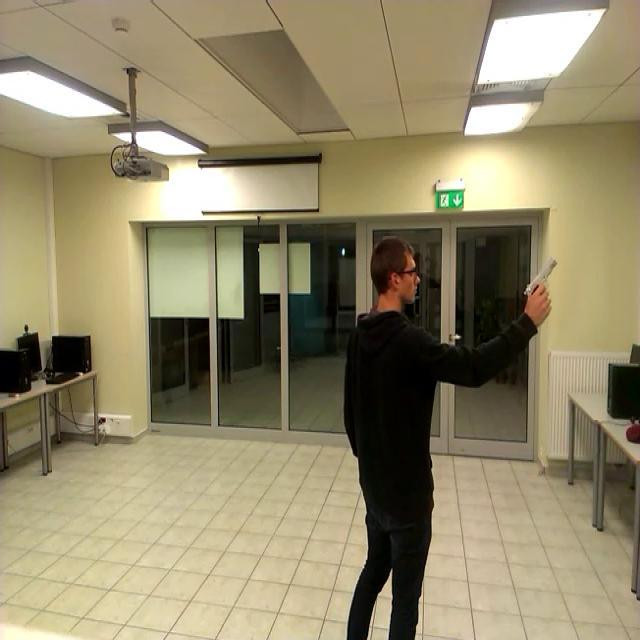Gun: (514, 239, 566, 303)
